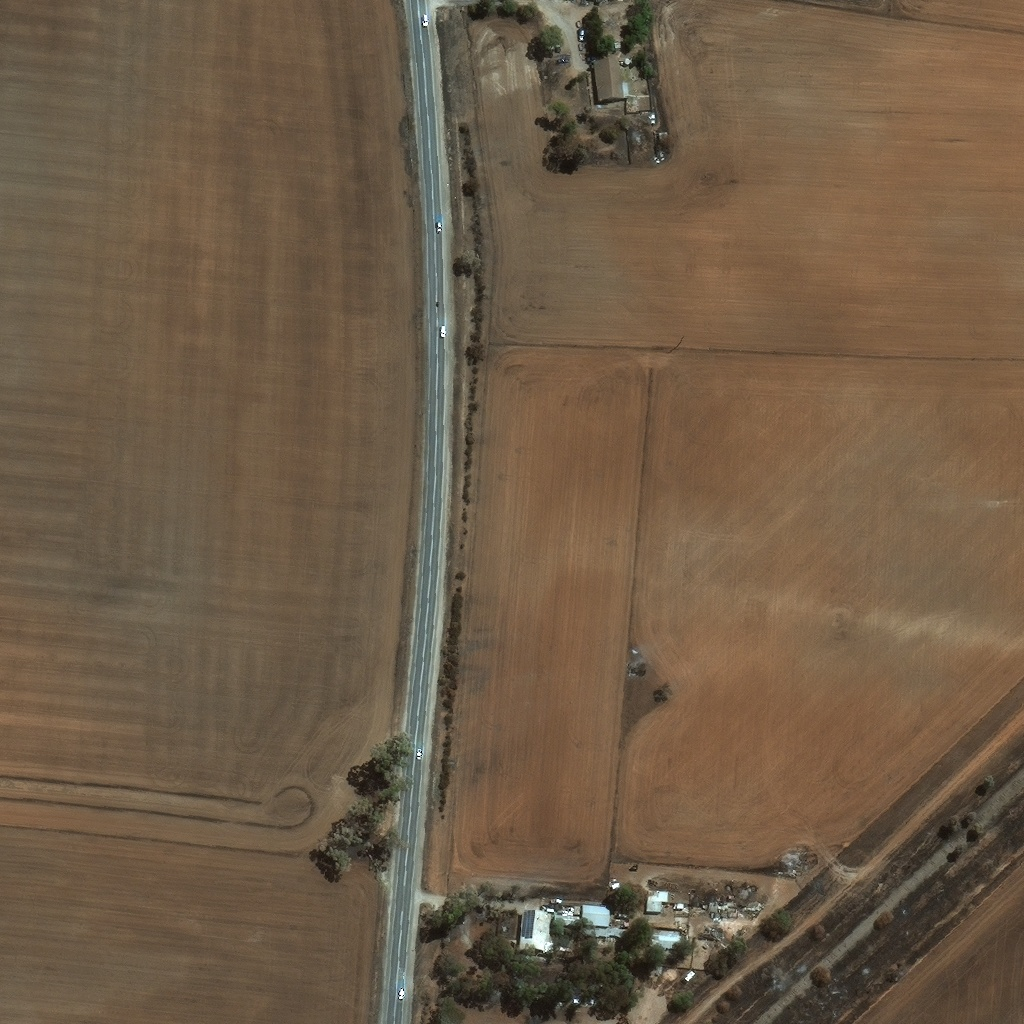0 no-damage: (519, 911, 556, 956), (594, 58, 624, 102), (581, 906, 609, 930), (591, 930, 628, 937), (622, 83, 629, 98), (612, 883, 621, 889)
1 minor-damage: (652, 930, 683, 951), (648, 891, 668, 912)
2 major-damage: (555, 914, 582, 924)
3 destroyed: (715, 904, 732, 917)
